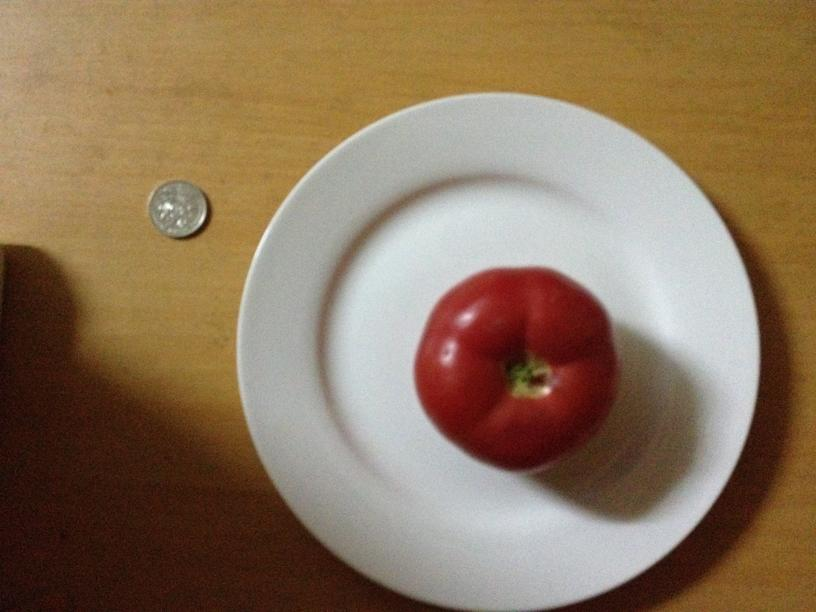coin: (143, 178, 212, 239)
tomato: (410, 262, 621, 477)
